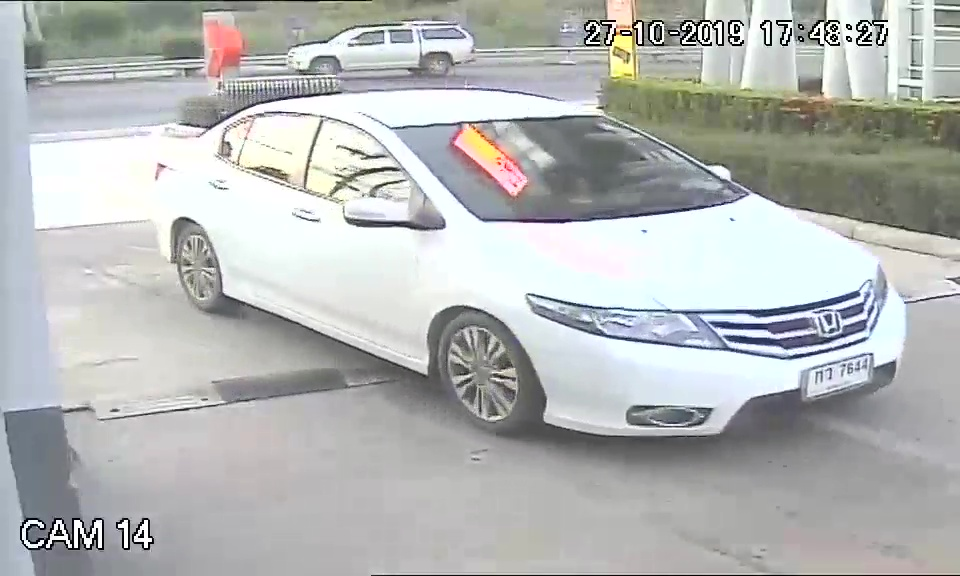sedan: (144, 83, 911, 442)
